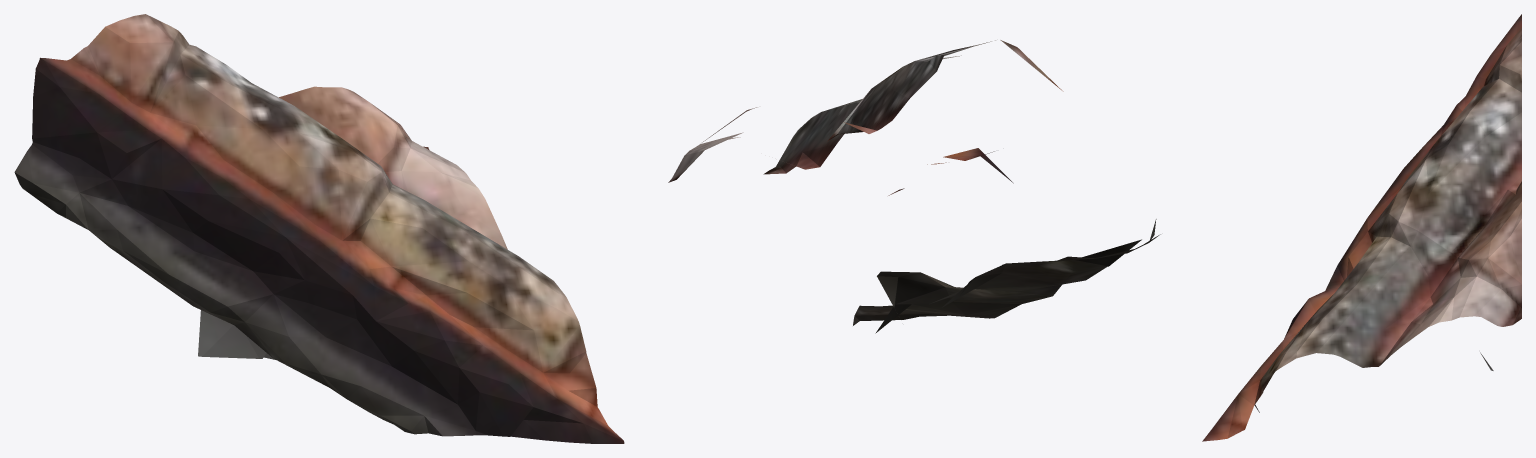
3 views of the same model, side by side, from view 1: azimuth 30°, elevation 25°; view 2: azimuth 150°, elevation 25°; view 3: azimuth 270°, elevation 25° (orthographic). The views are drawn at different scales.
Size of the model in its own units: 0.7275 by 0.5983 by 0.5981.
1 material, 1 textured.
